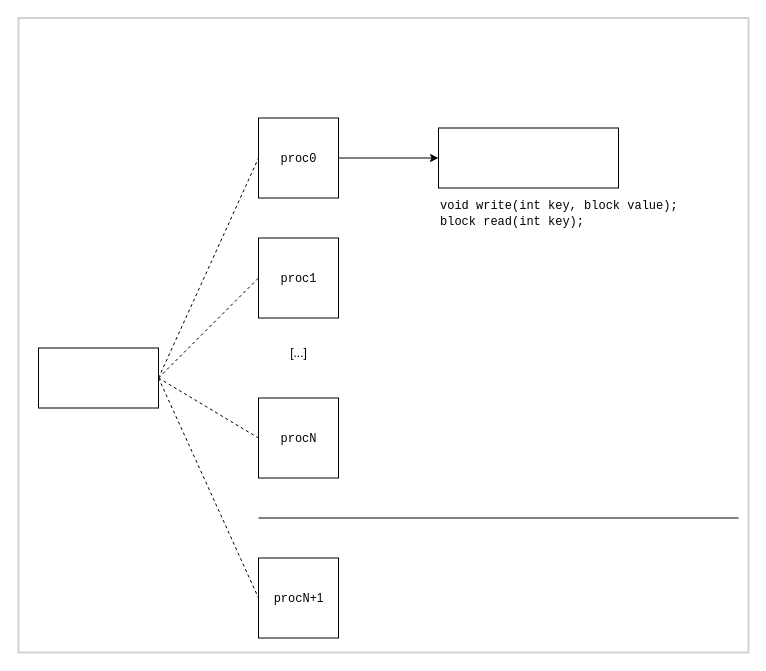
Some shapes in this 766 by 671 pixel diagram are drawn without their labels. Here are the shapes that lost their labels. From the top down, the box of each, then its label:
(438, 127, 618, 188): UnifiedRepositoryFacade
(38, 347, 158, 408): mpirun
